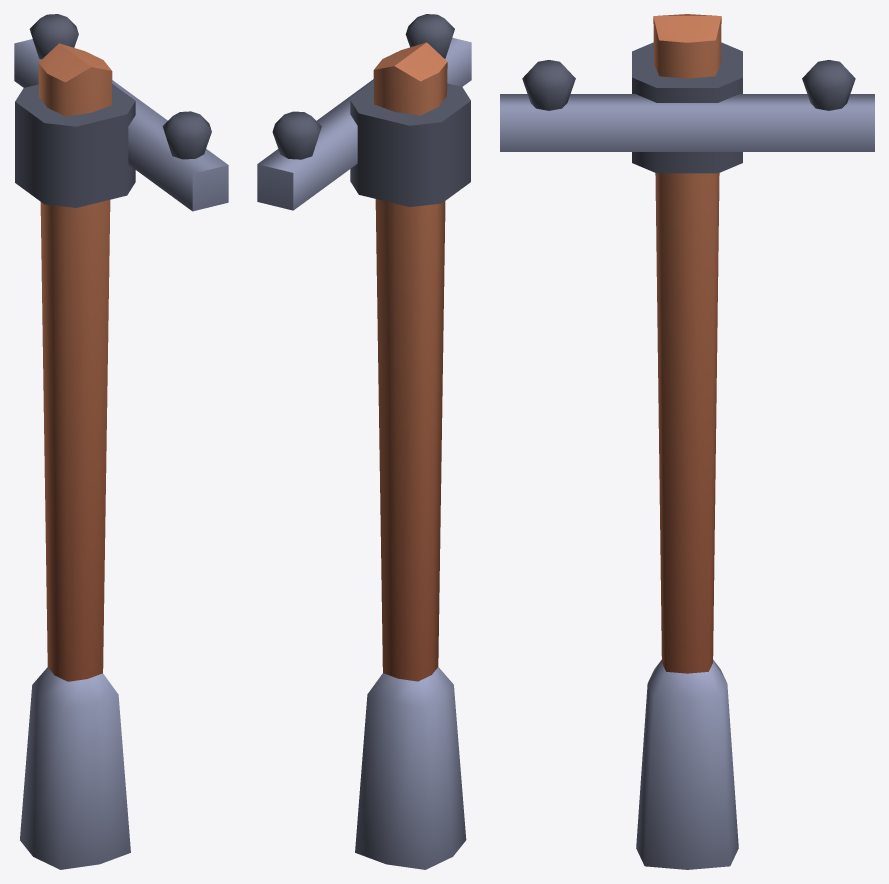
File: pole.fbx
The picture shows the model from 3 angles, left to right: view 1: azimuth 30°, elevation 25°; view 2: azimuth 150°, elevation 25°; view 3: azimuth 270°, elevation 25°; orthographic projection. The views are drawn at different scales.
Parts seen in each view (by area): view 1: electricity-pole-single; view 2: electricity-pole-single; view 3: electricity-pole-single.
Part boxes in pixels (x1,y1,x2,y2): electricity-pole-single: [14, 14, 228, 869]; electricity-pole-single: [257, 14, 471, 869]; electricity-pole-single: [500, 14, 874, 869].
Size of the model in its own units: 0.1506 by 1 by 0.408.
